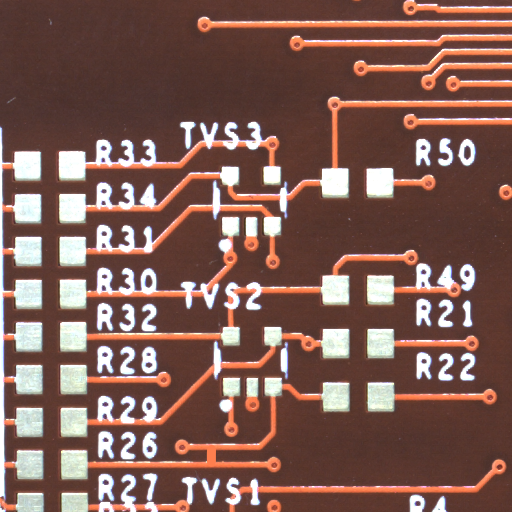Short: (211, 455, 226, 473)
